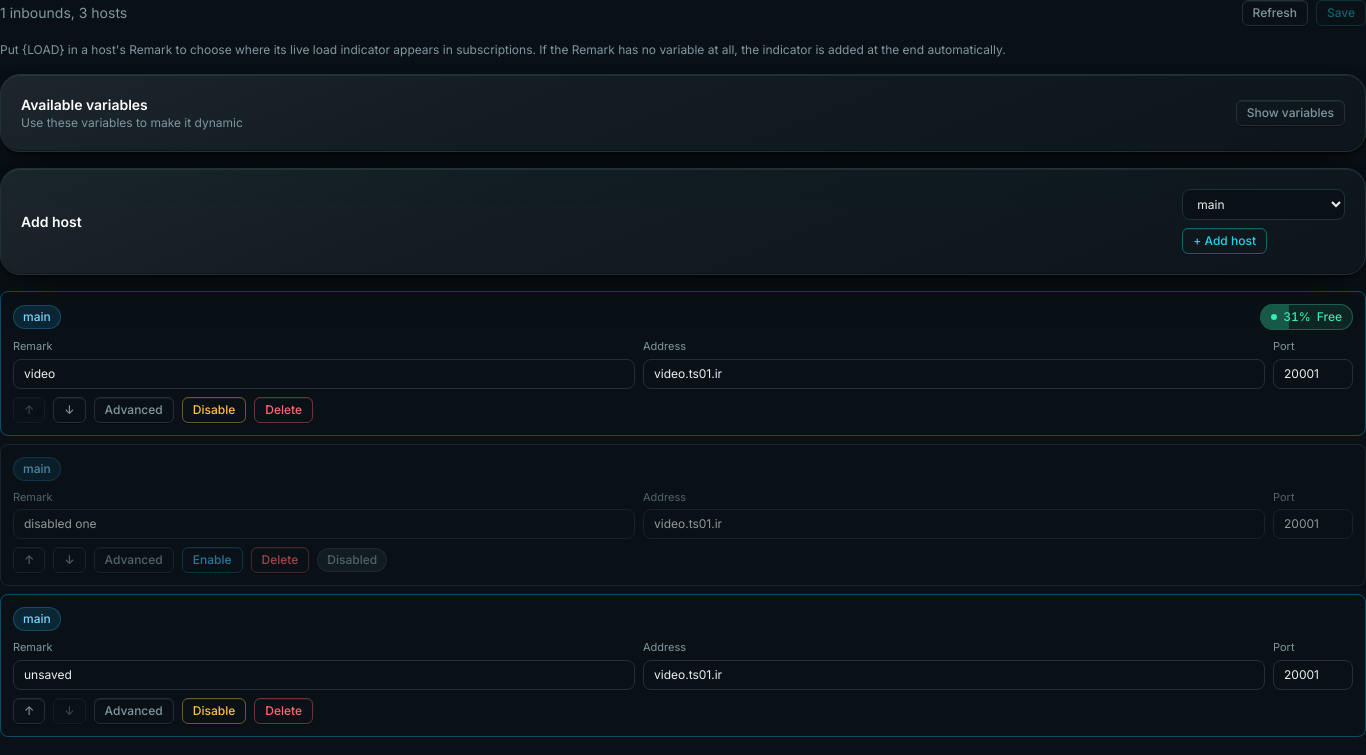
Test case: Hosts page load column › lists the load variables in the variables reference
This screenshot has width=1366, height=755.
Click the button "Show variables" at (1290, 113), box [1236,100,1345,126]
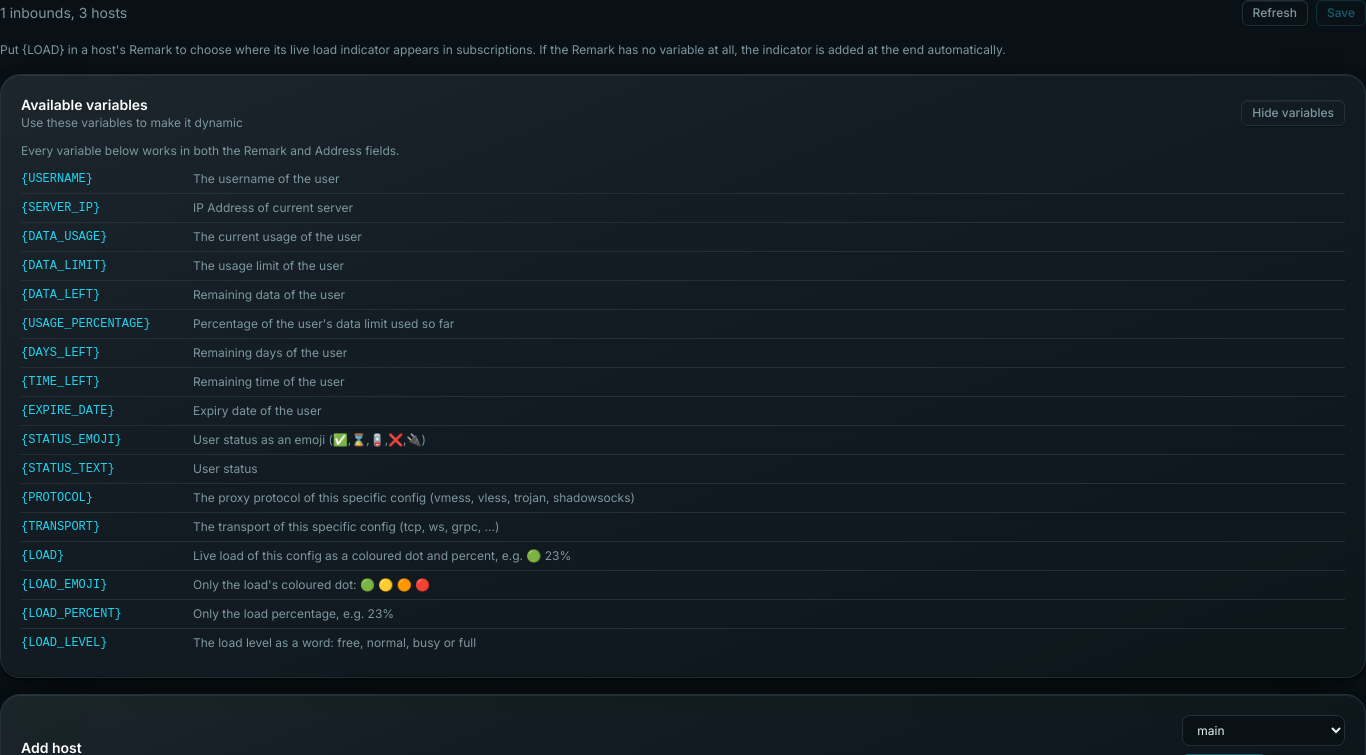
Check: the text "{LOAD}" is shown, box [21,549,64,563]
Check: the text "{LOAD_EMOJI}" is shown, box [21,578,107,592]
Check: the text "{LOAD_PERCENT}" is shown, box [21,607,122,621]
